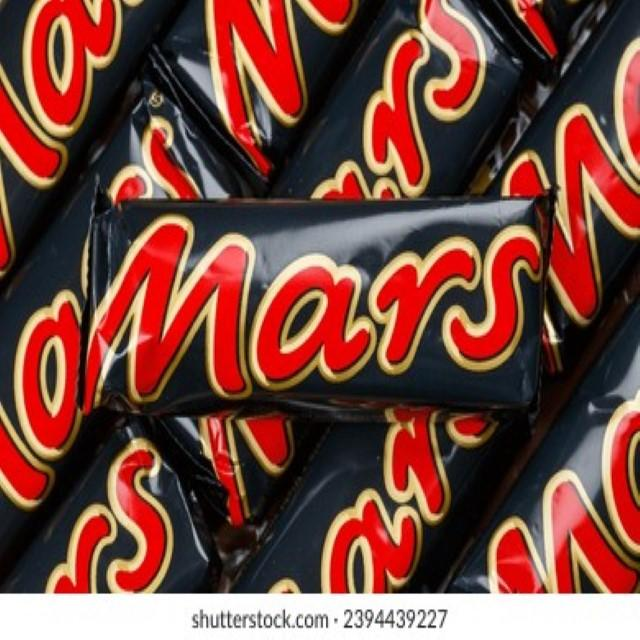mars_chocolate: (214, 7, 488, 443), (90, 214, 522, 408), (0, 105, 180, 492)
